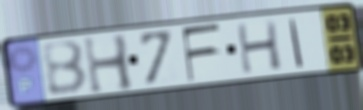7: (138, 27, 176, 88)
B: (39, 38, 90, 97)
F: (179, 21, 223, 84)
H: (81, 32, 137, 96), (234, 18, 285, 76)
I: (287, 17, 306, 69)
